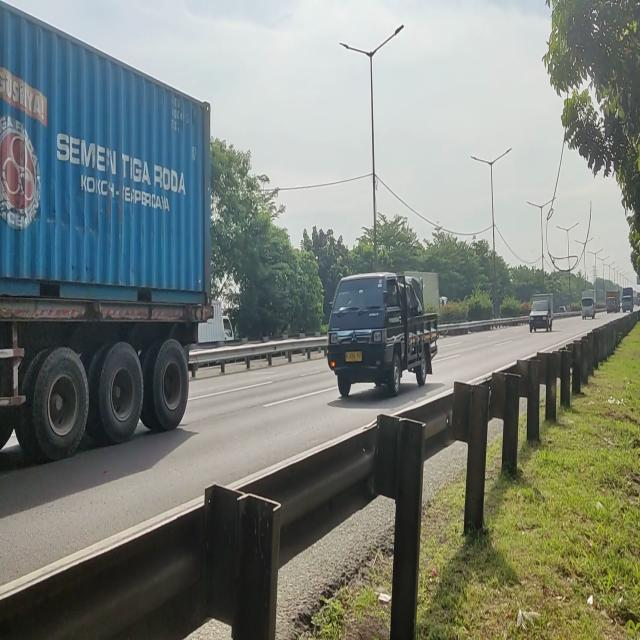Golongan I: (324, 264, 444, 402)
